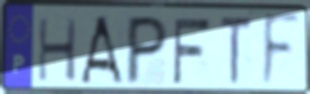A: (78, 14, 126, 87)
F: (260, 12, 302, 92), (171, 16, 213, 86)
H: (36, 16, 79, 84)
P: (123, 13, 171, 87)
T: (218, 14, 254, 88)
